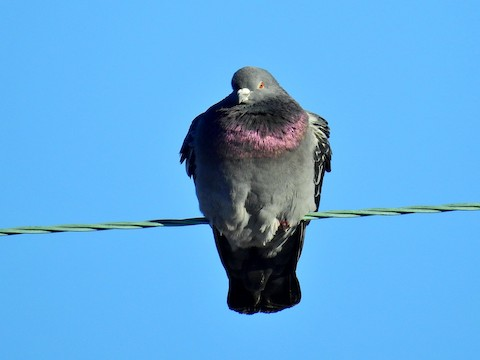pigeon: (174, 57, 343, 315)
